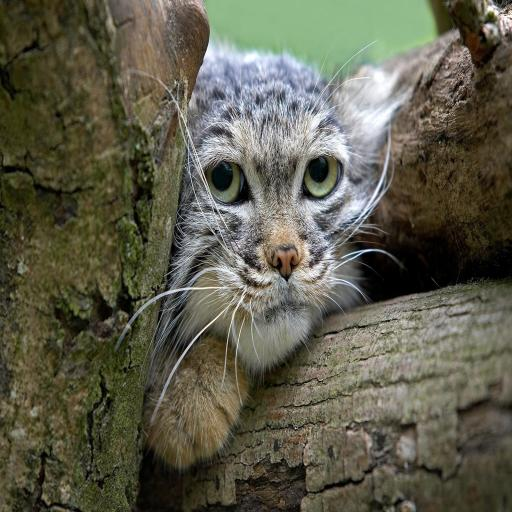manul: (143, 48, 401, 469)
